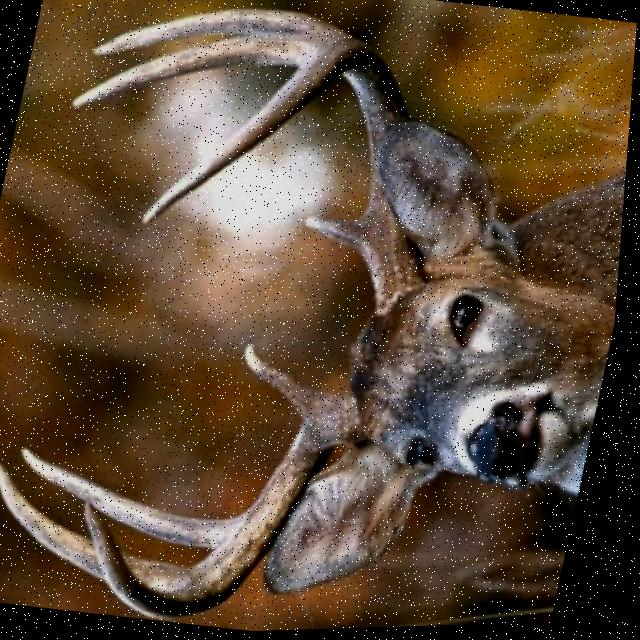L-F: (144, 37, 427, 317)
L-G1: (305, 217, 364, 252)
L-G3: (71, 37, 312, 108)
R-F: (90, 397, 365, 620)
R-G1: (248, 345, 335, 422)
R-G2: (27, 447, 246, 551)
